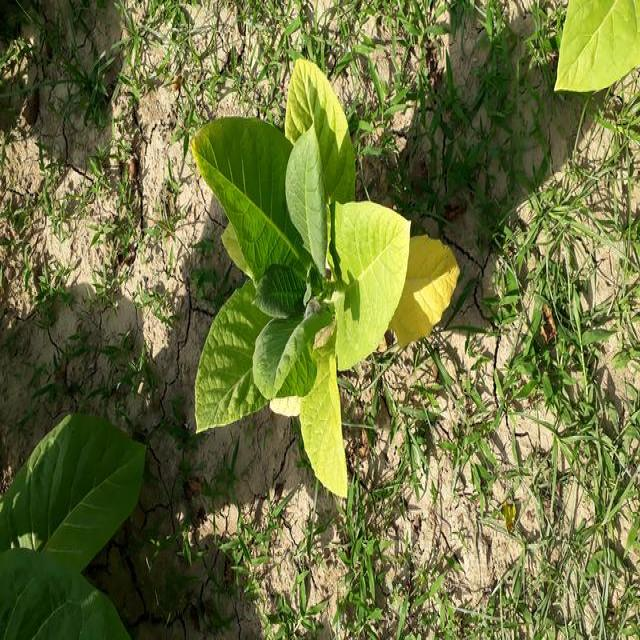crop: (184, 68, 451, 503), (2, 401, 144, 640), (547, 0, 640, 103)
